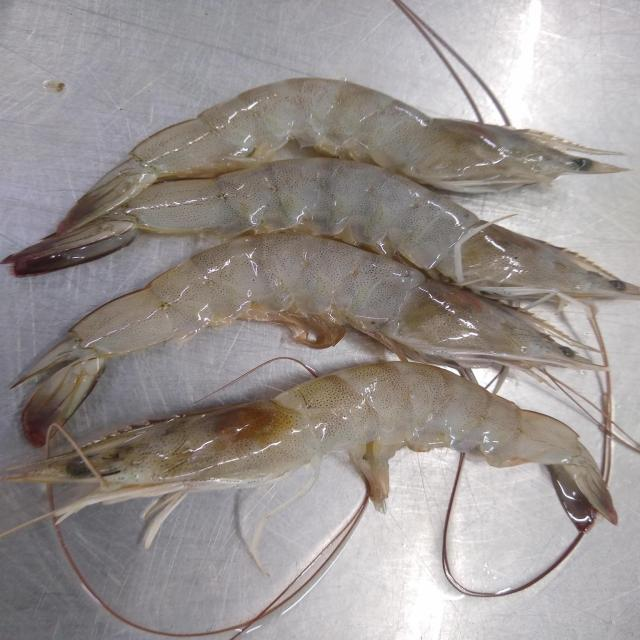shrimp: (16, 233, 602, 443), (6, 362, 619, 546), (53, 77, 625, 236), (3, 158, 640, 298)
